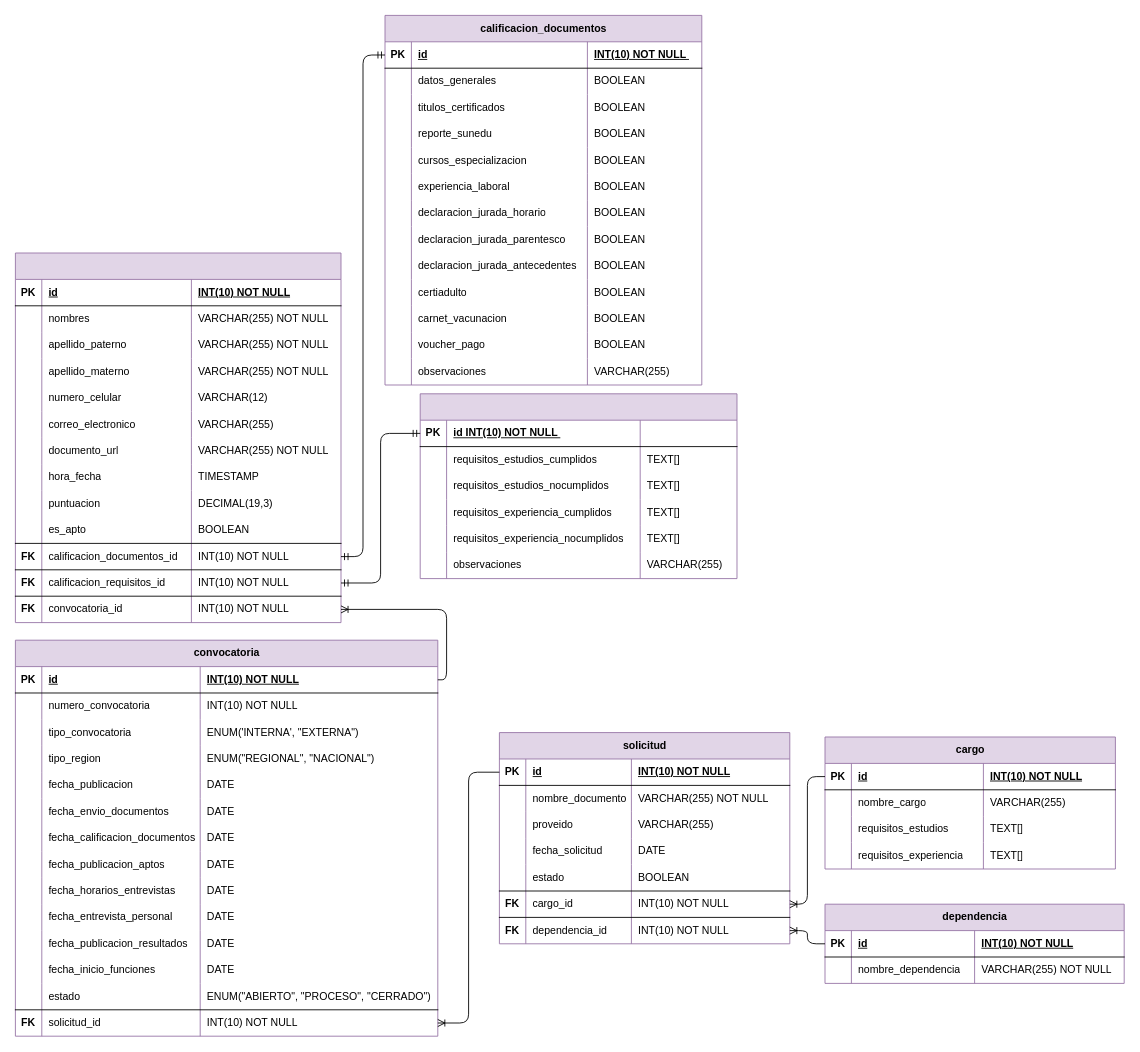
Image size: 1140x1052. Some labels were removed from this diagram. Here are the shapes that lost their labels. From the top down, the box of each, then its label:
(15, 252, 341, 623): postulacion
(419, 393, 737, 579): calificacion_requisitos
